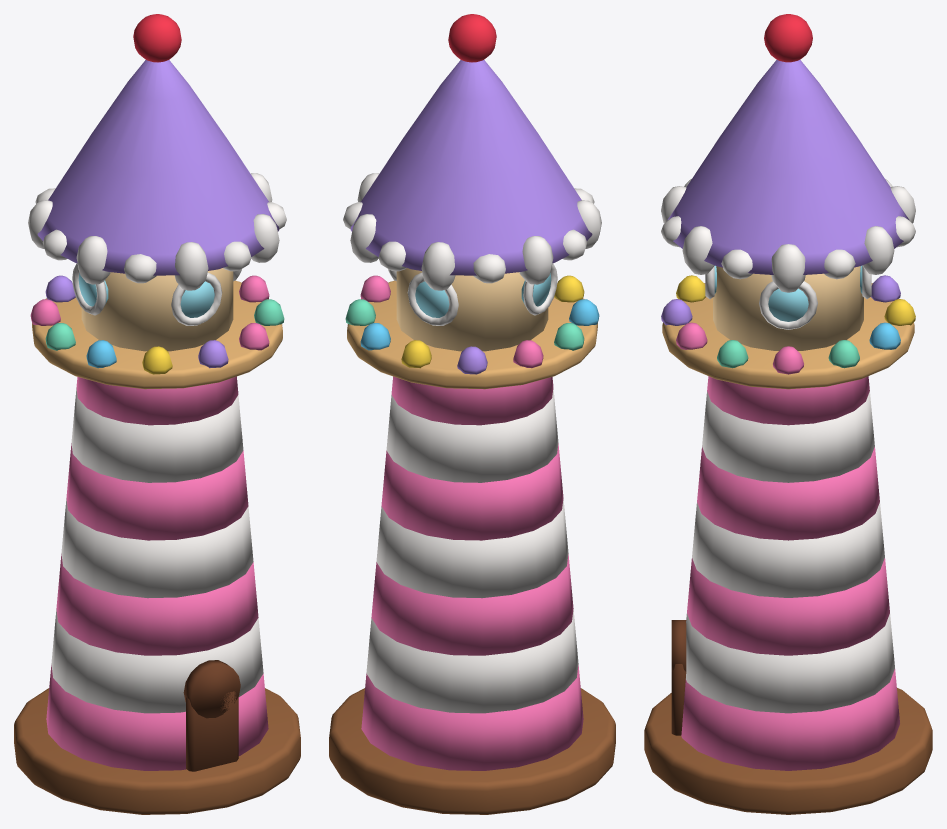
File: candy_tower.glb
The picture shows the model from 3 angles, left to right: view 1: azimuth 30°, elevation 25°; view 2: azimuth 150°, elevation 25°; view 3: azimuth 270°, elevation 25°; orthographic projection.
Parts seen in each view (by area): view 1: C_Tower__C_white_5, C_Tower__C_pink_2, C_Tower__C_lilac_2, C_Tower__C_choc_8, C_Tower__C_bisc_8, C_Tower__C_van_8, C_Tower__C_choc_2, C_Tower__C_red_2, C_Tower__C_mint_2, C_Tower__C_aqua_2, C_Tower__C_yel_2, C_Tower__C_sky_2; view 2: C_Tower__C_white_5, C_Tower__C_pink_2, C_Tower__C_lilac_2, C_Tower__C_choc_8, C_Tower__C_bisc_8, C_Tower__C_van_8, C_Tower__C_red_2, C_Tower__C_mint_2, C_Tower__C_yel_2, C_Tower__C_sky_2, C_Tower__C_aqua_2; view 3: C_Tower__C_white_5, C_Tower__C_pink_2, C_Tower__C_lilac_2, C_Tower__C_choc_8, C_Tower__C_bisc_8, C_Tower__C_van_8, C_Tower__C_red_2, C_Tower__C_choc_2, C_Tower__C_mint_2, C_Tower__C_yel_2, C_Tower__C_aqua_2, C_Tower__C_sky_2.
Part boxes in pixels (<box>): C_Tower__C_white_5: <box>28,173,286,713</box>; C_Tower__C_pink_2: <box>30,275,269,770</box>; C_Tower__C_lilac_2: <box>37,60,279,368</box>; C_Tower__C_choc_8: <box>14,688,300,814</box>; C_Tower__C_bisc_8: <box>32,280,282,389</box>; C_Tower__C_van_8: <box>81,268,233,351</box>; C_Tower__C_choc_2: <box>183,660,240,771</box>; C_Tower__C_red_2: <box>133,14,181,62</box>; C_Tower__C_mint_2: <box>45,299,284,350</box>; C_Tower__C_aqua_2: <box>78,273,214,317</box>; C_Tower__C_yel_2: <box>142,346,172,374</box>; C_Tower__C_sky_2: <box>86,340,116,368</box>; C_Tower__C_white_5: <box>343,173,601,713</box>; C_Tower__C_pink_2: <box>360,275,583,770</box>; C_Tower__C_lilac_2: <box>350,60,592,374</box>; C_Tower__C_choc_8: <box>329,688,615,814</box>; C_Tower__C_bisc_8: <box>347,280,597,389</box>; C_Tower__C_van_8: <box>396,268,548,351</box>; C_Tower__C_red_2: <box>448,14,496,62</box>; C_Tower__C_mint_2: <box>345,299,584,350</box>; C_Tower__C_yel_2: <box>401,275,584,368</box>; C_Tower__C_sky_2: <box>360,299,599,350</box>; C_Tower__C_aqua_2: <box>415,273,551,317</box>; C_Tower__C_white_5: <box>661,179,915,713</box>; C_Tower__C_pink_2: <box>676,322,899,770</box>; C_Tower__C_lilac_2: <box>661,60,909,325</box>; C_Tower__C_choc_8: <box>644,688,932,814</box>; C_Tower__C_bisc_8: <box>662,283,914,389</box>; C_Tower__C_van_8: <box>713,266,863,350</box>; C_Tower__C_red_2: <box>764,14,812,62</box>; C_Tower__C_choc_2: <box>671,620,686,735</box>; C_Tower__C_mint_2: <box>717,340,859,368</box>; C_Tower__C_yel_2: <box>676,275,915,325</box>; C_Tower__C_aqua_2: <box>714,265,862,321</box>; C_Tower__C_sky_2: <box>869,322,900,349</box>.
Bounding box in the file's own units: 4 × 11.34 × 4.
